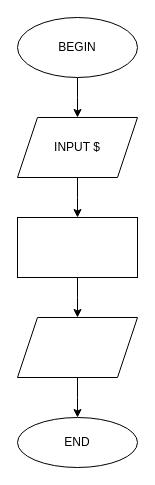
The diagram is 155 pixels wide and 485 high, and some of its shapes have lost their labels. Here are the shapes that lost their labels. From the top down, the centre of each, then its label:
the point at 77,247: vnd = $*23
the point at 77,347: OUPUT vnd
